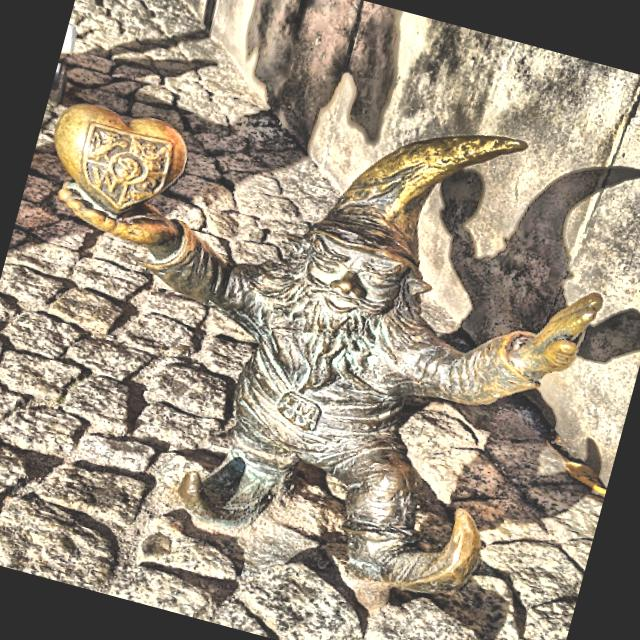WrocLovek: (39, 91, 620, 611)
